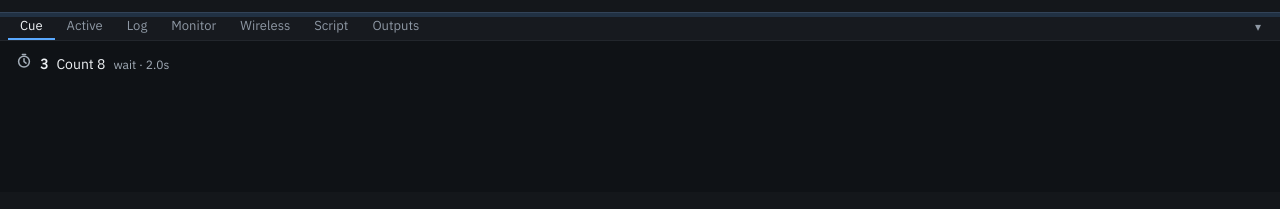
Scenario: Dock › opens a panel from its tab, and the same tab puts the cue back
Step 1. Click the tab "Log" → (137, 26), box [115,13,159,40]
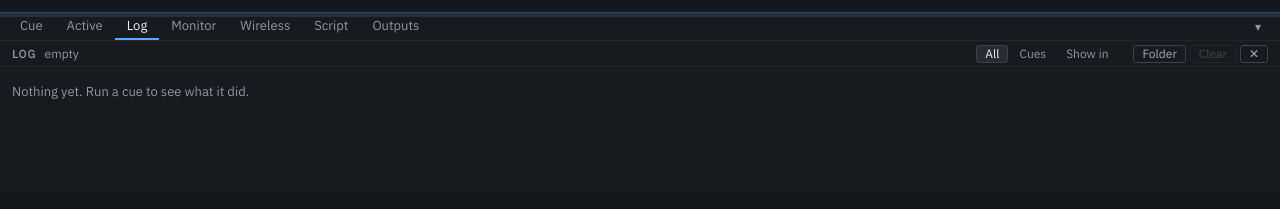
Result: the element with class "log-panel" is shown
Step 2. Click the tab "Log" → (137, 26), box [115,13,159,40]
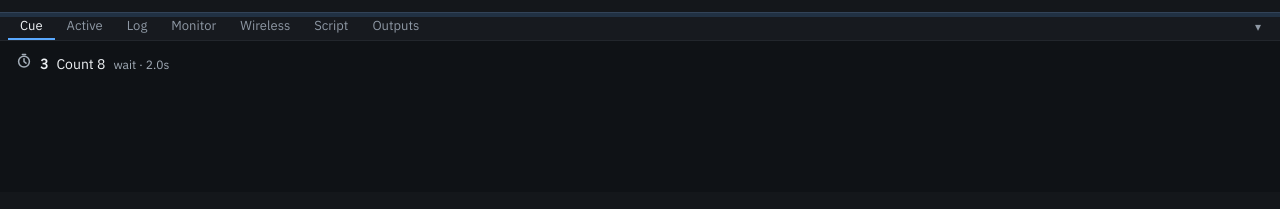
Result: the element with class "log-panel" is gone
